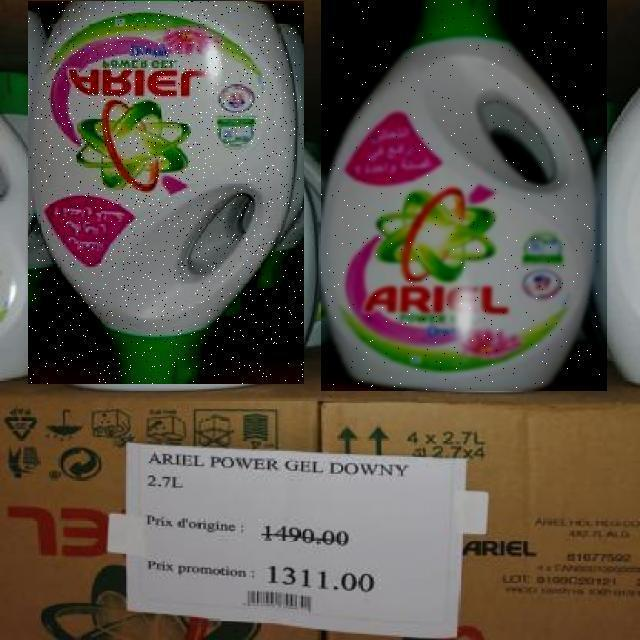Detergent: (321, 0, 607, 391), (28, 1, 304, 384)
